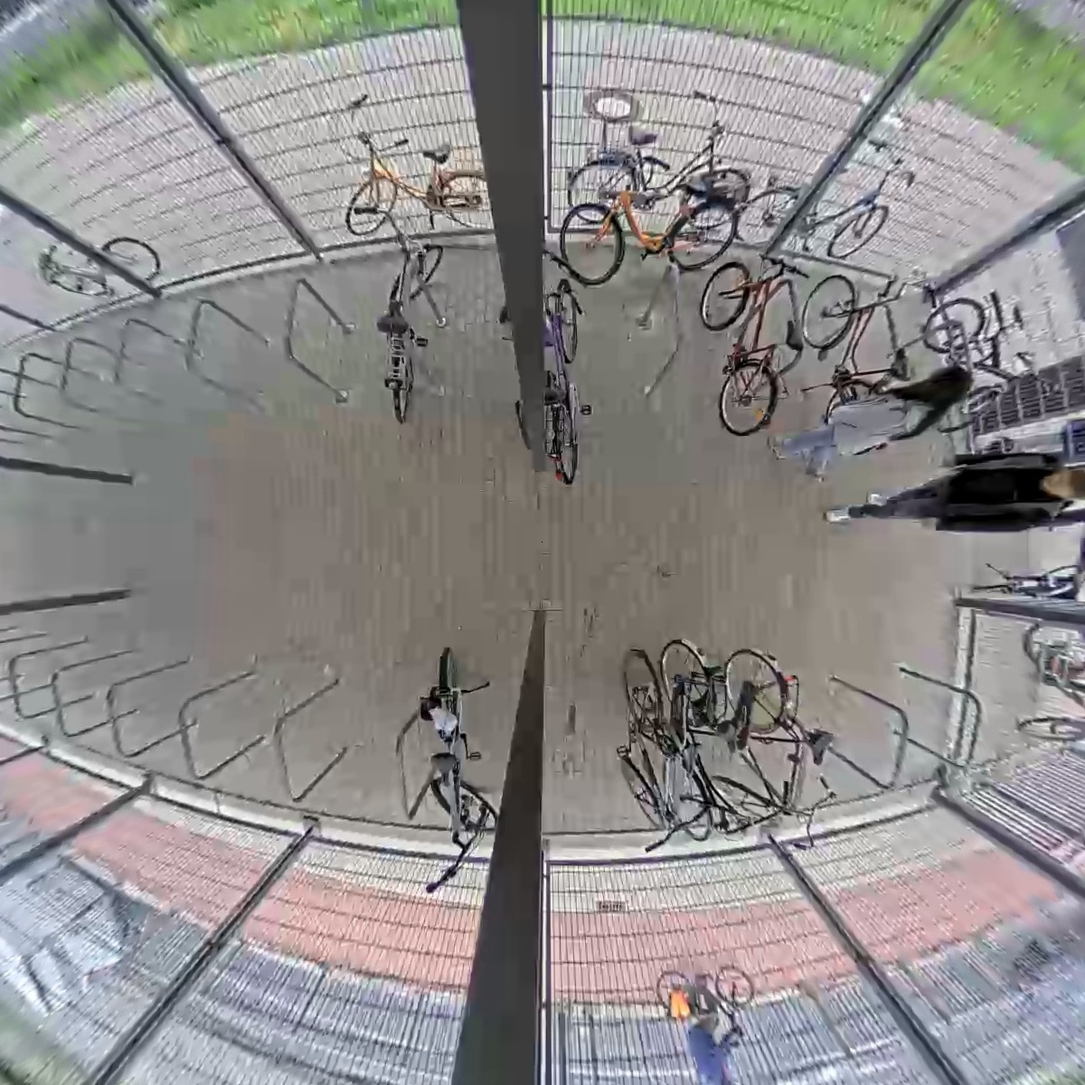bicylce: (557, 165, 746, 280), (406, 648, 494, 887), (712, 648, 809, 830), (699, 263, 795, 437), (804, 275, 906, 426), (372, 230, 444, 425), (663, 639, 729, 840), (923, 299, 999, 438), (610, 647, 665, 832), (537, 284, 587, 484)
saddle: (376, 299, 410, 333), (679, 739, 704, 781), (805, 731, 835, 766), (540, 370, 566, 403), (431, 750, 455, 781), (891, 349, 910, 381), (787, 319, 803, 352), (679, 180, 708, 198), (1012, 305, 1023, 327)
